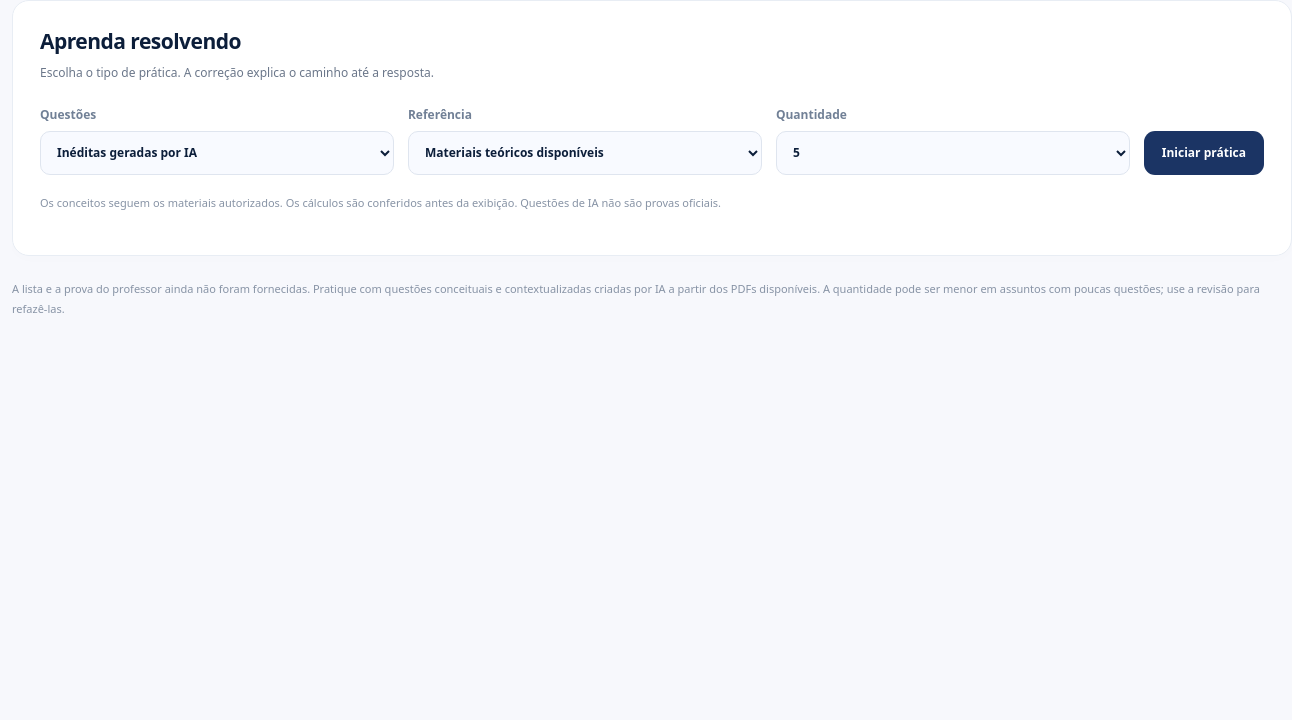
Scenario: inicia Sistemas Digitais por IA usando teoria e informa a ausência da prova
Expected: the dropdown labelled "Questões" shows "Inéditas geradas por IA", [40,131,394,175]
Expected: the text "A lista e a prova do professor ainda não foram fornecidas" is shown, [12,282,1260,316]
Click the button "Iniciar prática" at (1204, 153), box [1144,131,1264,175]
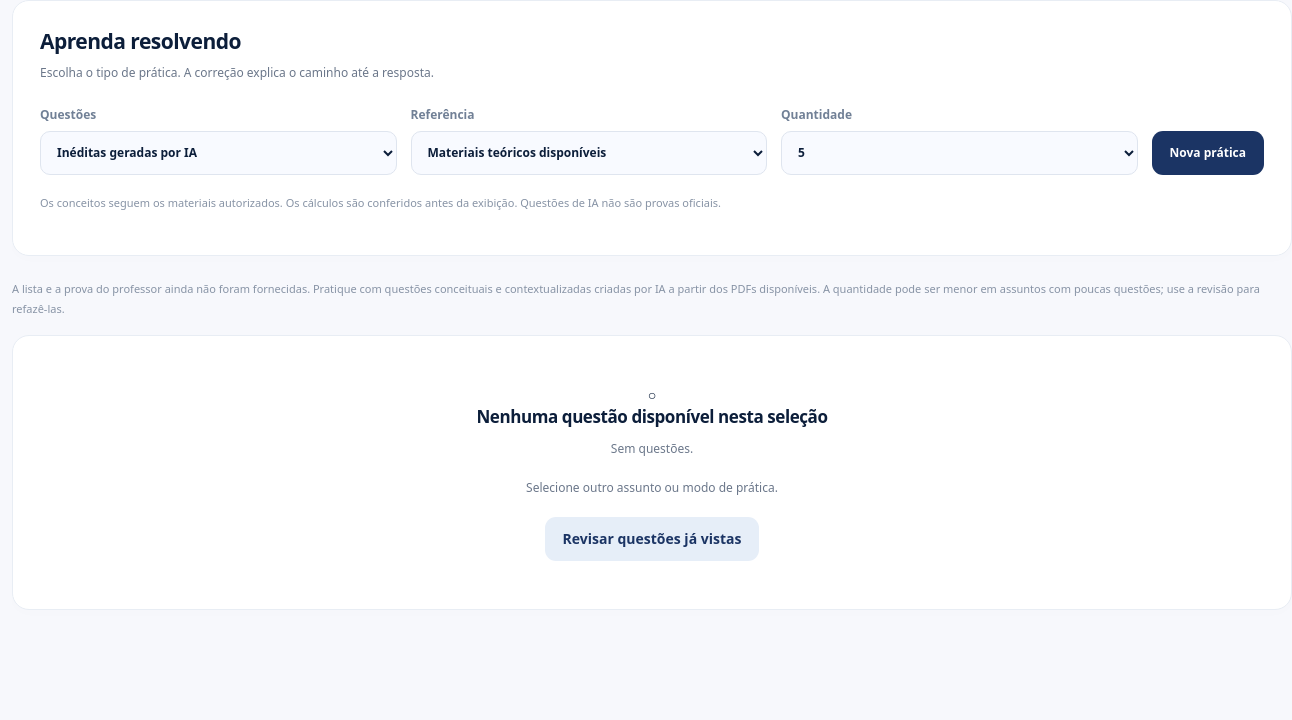
Expected: the heading "Nenhuma questão disponível nesta seleção" is shown, [476,406,828,428]
